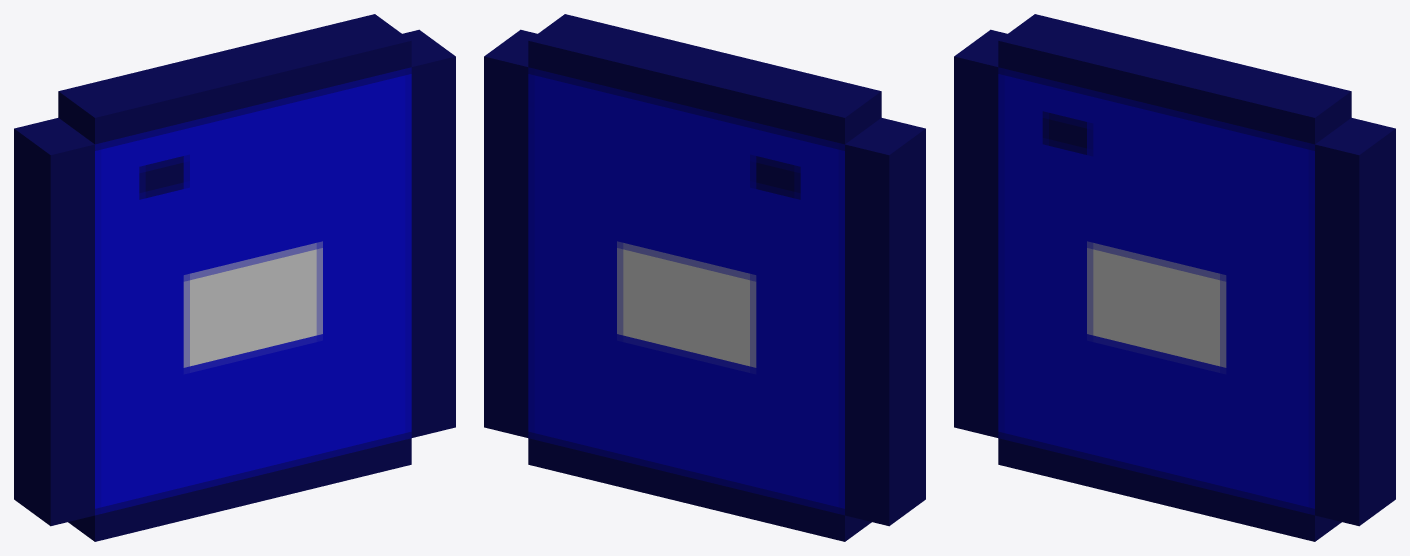
3 views of the same model, side by side, from view 1: azimuth 30°, elevation 25°; view 2: azimuth 150°, elevation 25°; view 3: azimuth 330°, elevation 25° (orthographic).
Visible parts, largest first — view 1: wearable_419; view 2: wearable_419; view 3: wearable_419.
Boxes of the visible parts, x1,y1,x2,y2 form: wearable_419: [14, 14, 455, 541]; wearable_419: [484, 14, 925, 541]; wearable_419: [954, 14, 1395, 541].
Bounding box in the file's own units: 2 × 2 × 0.3125.
